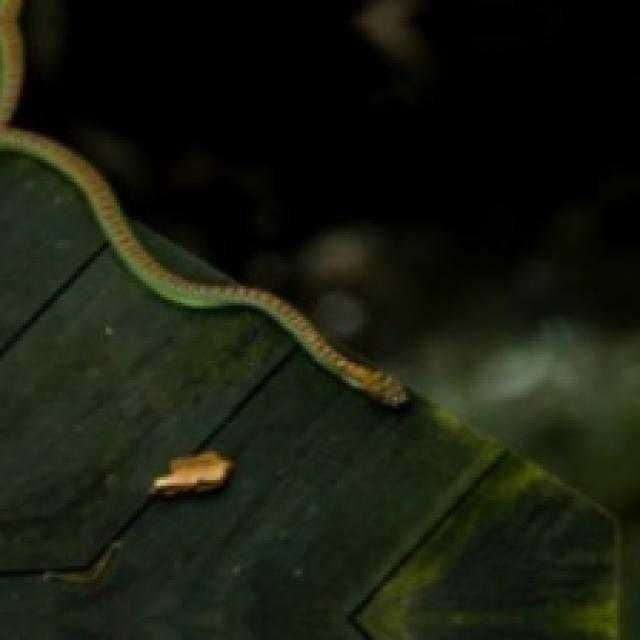paradise tree snake: (0, 0, 406, 406)
